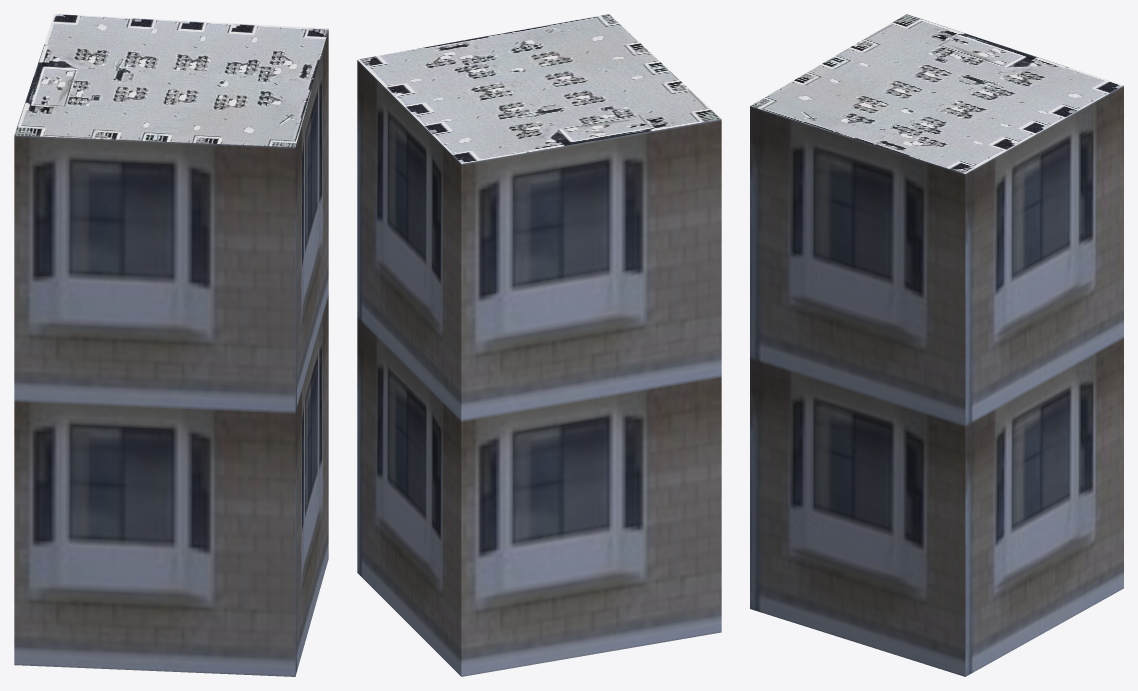
The model's file is ResTex__3185.fbx.
The picture shows the model from 3 angles, left to right: view 1: azimuth 30°, elevation 25°; view 2: azimuth 150°, elevation 25°; view 3: azimuth 270°, elevation 25°; orthographic projection. The views are drawn at different scales.
Visible parts, largest first — view 1: CityEngineMaterial_3_m, CityEngineMaterial_m; view 2: CityEngineMaterial_3_m, CityEngineMaterial_m; view 3: CityEngineMaterial_3_m, CityEngineMaterial_m.
Boxes of the visible parts, x1=… form: CityEngineMaterial_3_m: x1=14, y1=30, x2=328, y2=676; CityEngineMaterial_m: x1=14, y1=14, x2=328, y2=147; CityEngineMaterial_3_m: x1=357, y1=60, x2=721, y2=676; CityEngineMaterial_m: x1=357, y1=14, x2=721, y2=163; CityEngineMaterial_3_m: x1=750, y1=85, x2=1123, y2=676; CityEngineMaterial_m: x1=750, y1=14, x2=1123, y2=173.
Size of the model in its own units: 4.1 by 6 by 4.04.
Materials: 2 (2 with a texture image).
